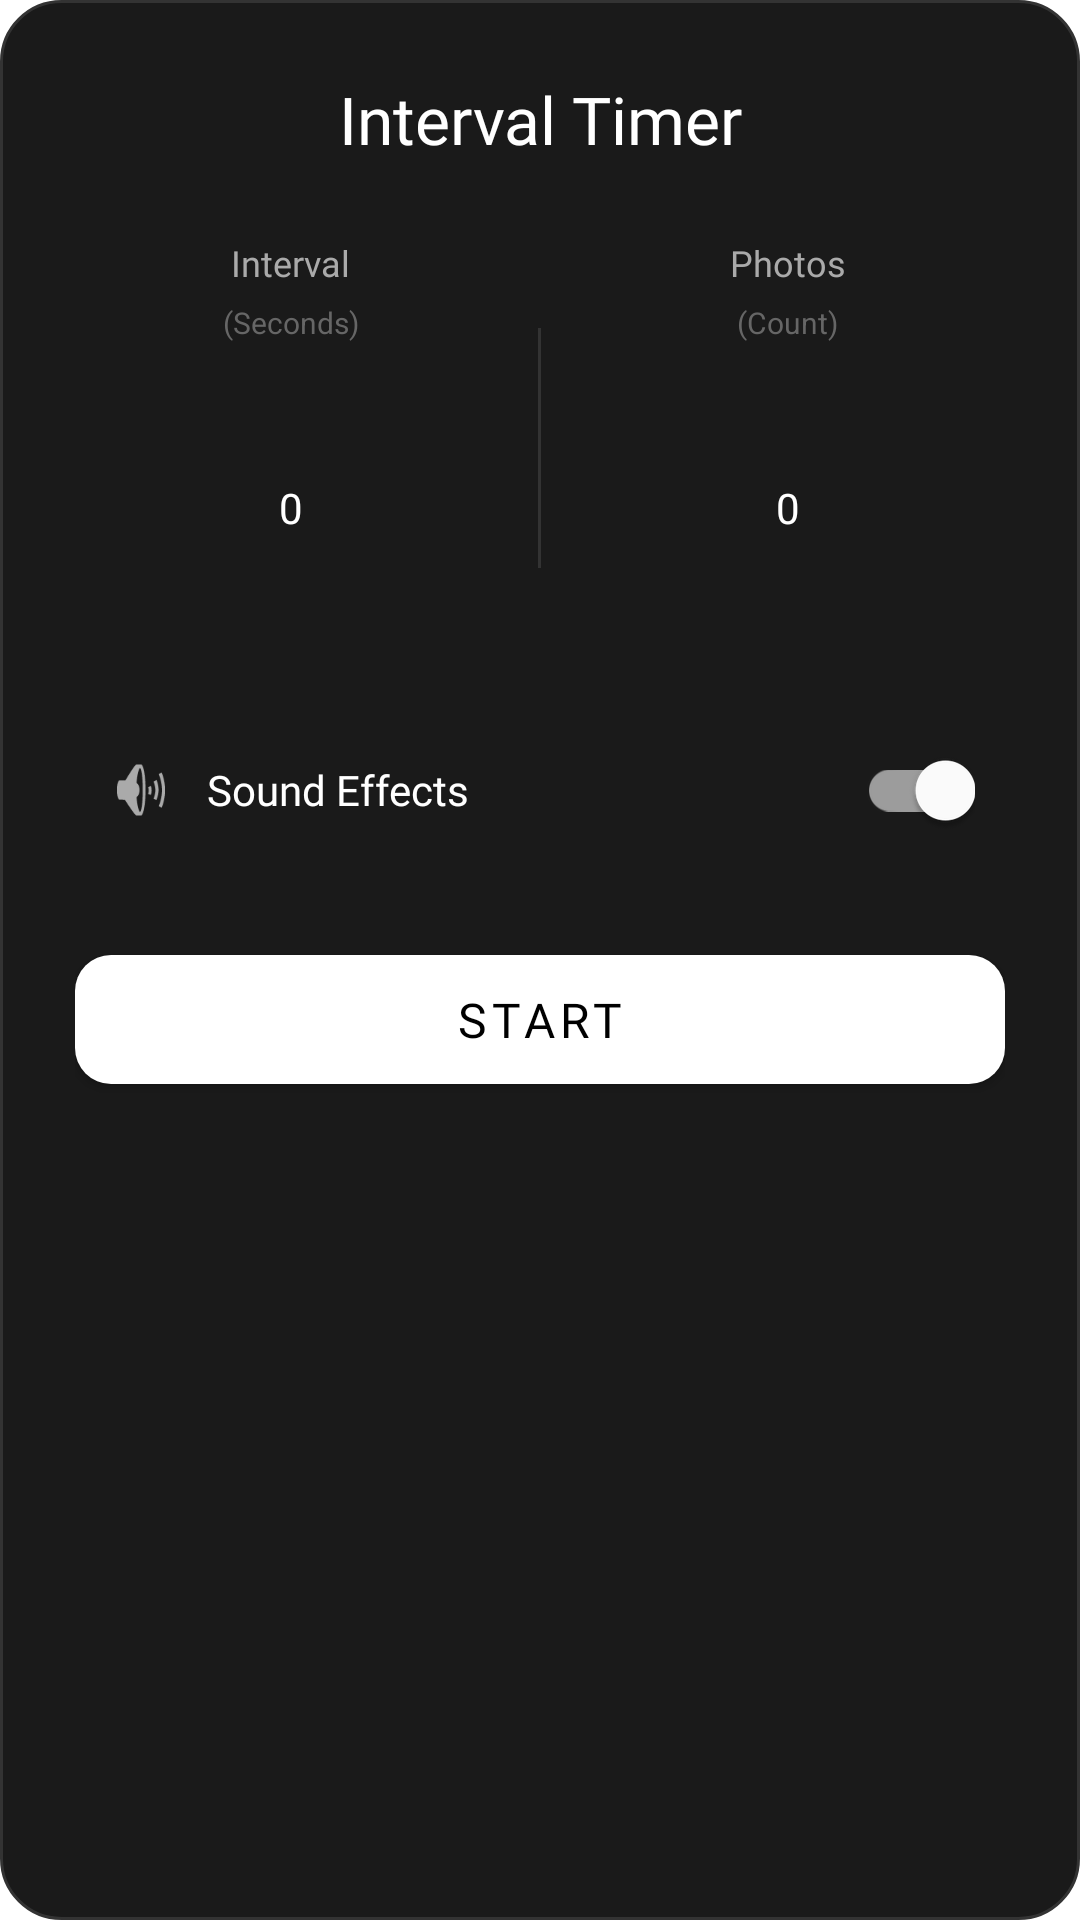

Where icons sit on this 1080px x 1920px app screen, as (x1, y1, x2, y2):
lock silent mode off: (117, 764, 165, 816)
